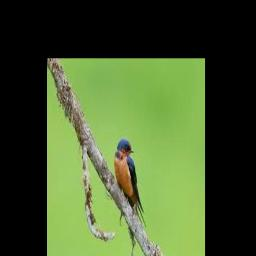Swallow: (114, 139, 146, 230)
